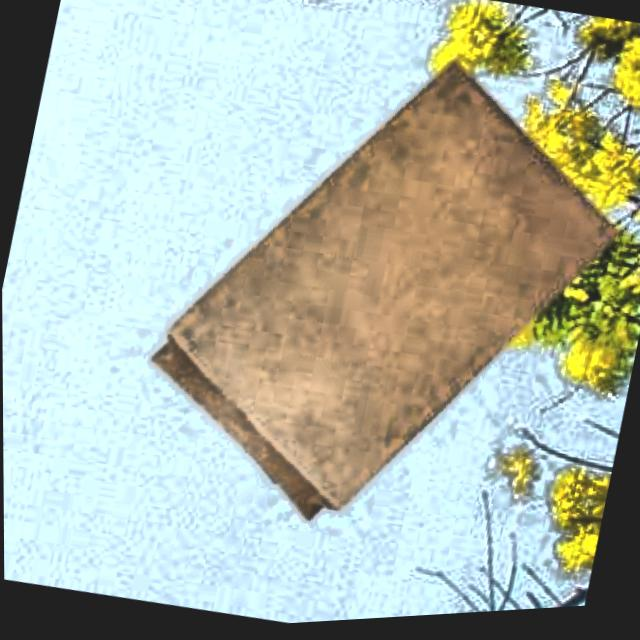Paper-bag: (114, 2, 640, 609)
